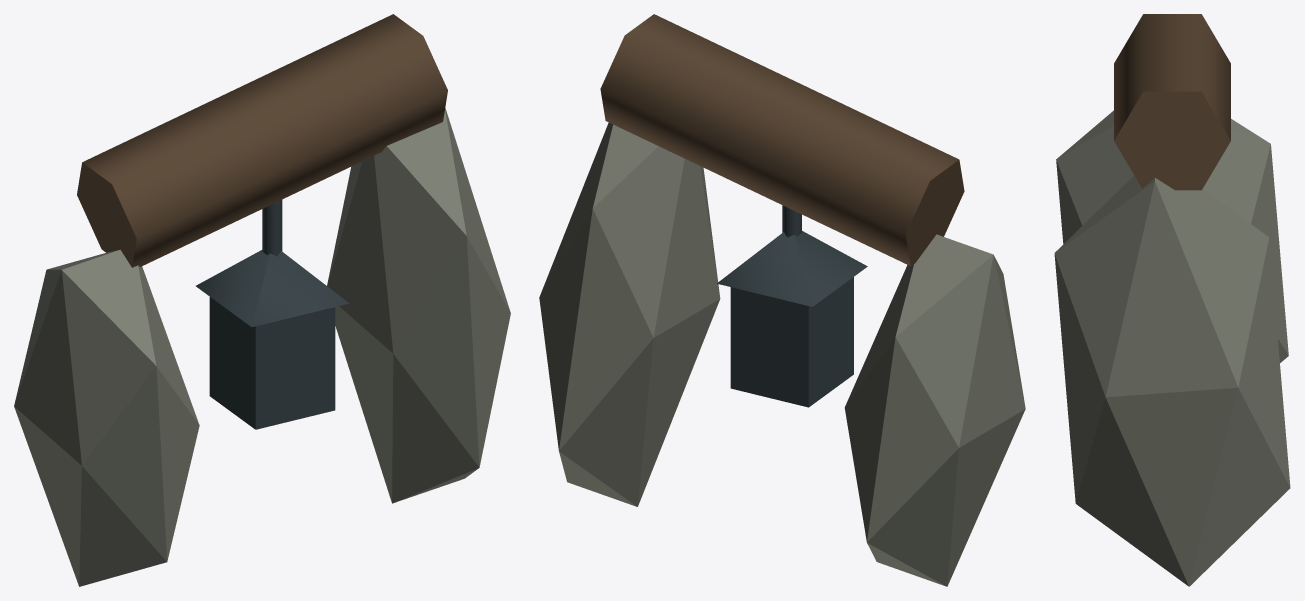
File: lantern-recess.glb
3 views of the same model, side by side, from view 1: azimuth 30°, elevation 25°; view 2: azimuth 150°, elevation 25°; view 3: azimuth 270°, elevation 25° (orthographic). The views are drawn at different scales.
Parts seen in each view (by area): view 1: lantern-recess; view 2: lantern-recess; view 3: lantern-recess.
Boxes of the visible parts, x1,y1,x2,y2 form: lantern-recess: (14, 14, 510, 586); lantern-recess: (539, 14, 1025, 586); lantern-recess: (1054, 14, 1290, 586).
Bounding box in the file's own units: 1.24 × 1.35 × 0.6055.
